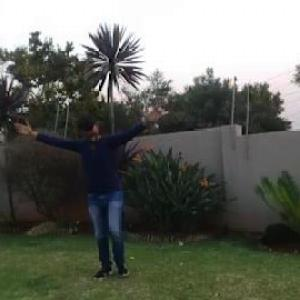takeoff: (29, 96, 165, 294)
